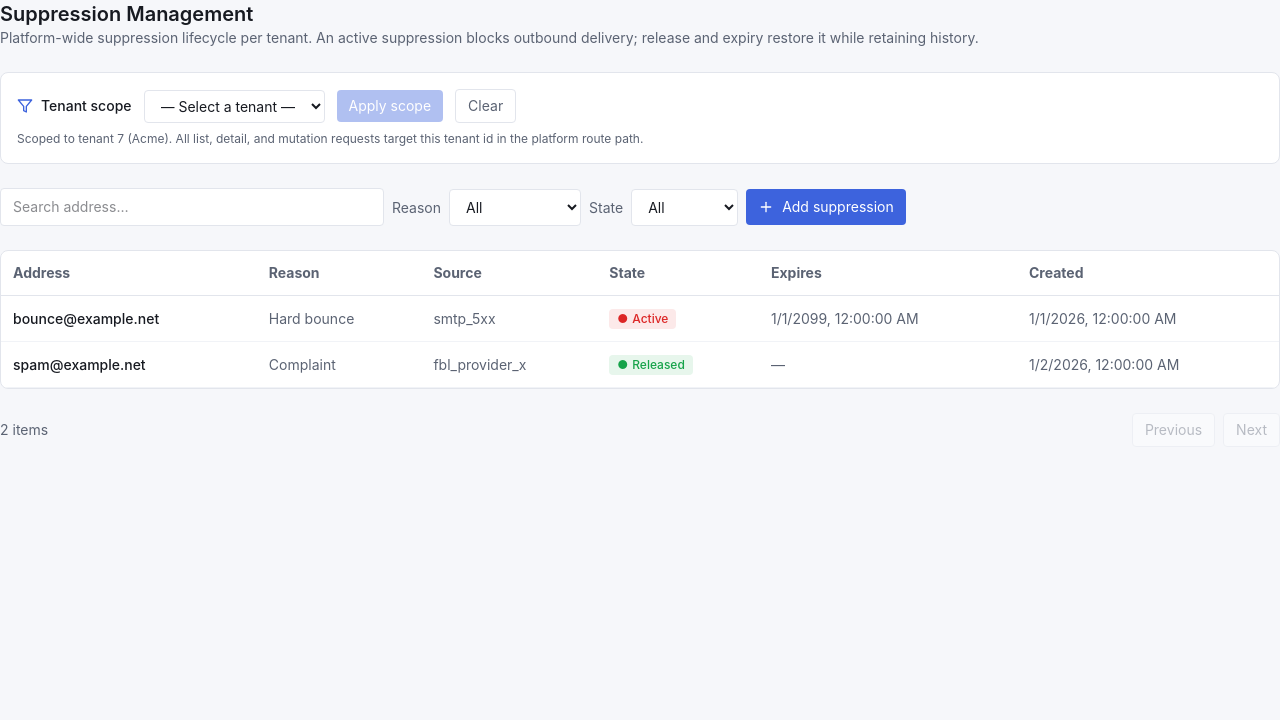
Scenario: features/platform/suppressions › never describes release as destructive deletion: history copy is retained
Click the text "spam@example.net": x=129, y=364 left=1, top=342, right=257, bottom=388
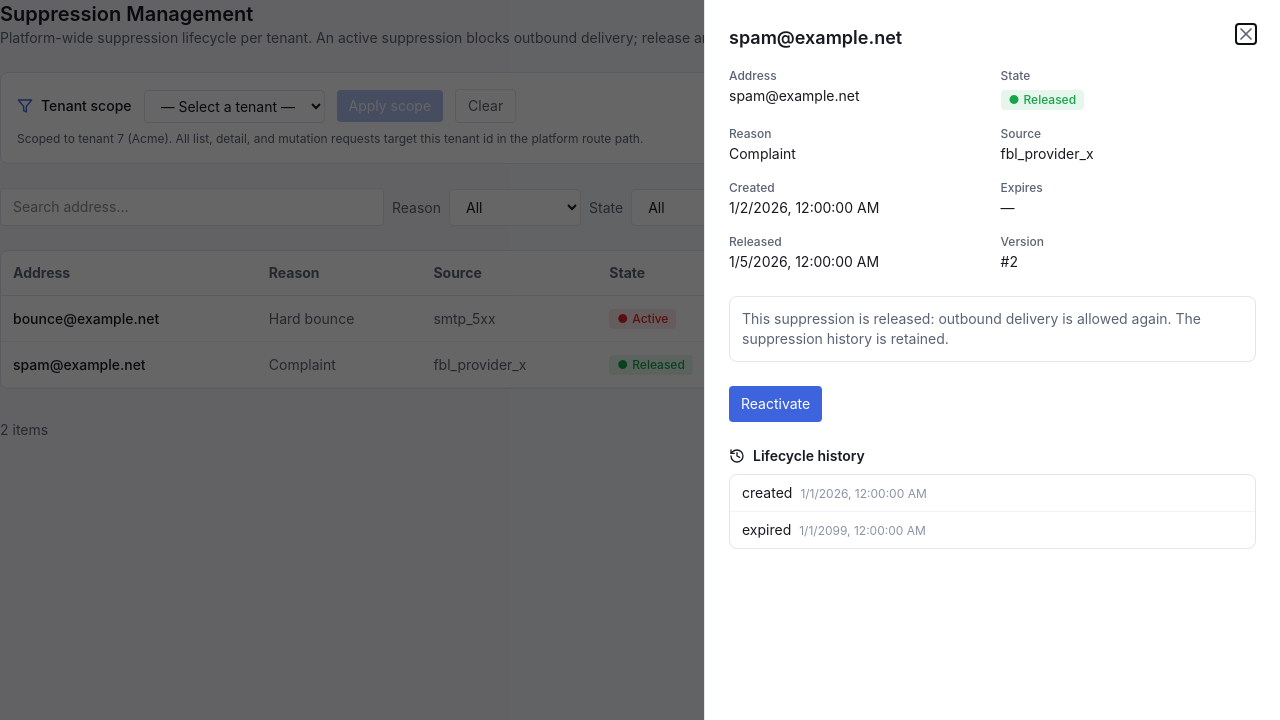
Expected: the text "history is retained" is shown, left=742, top=310, right=1201, bottom=347
